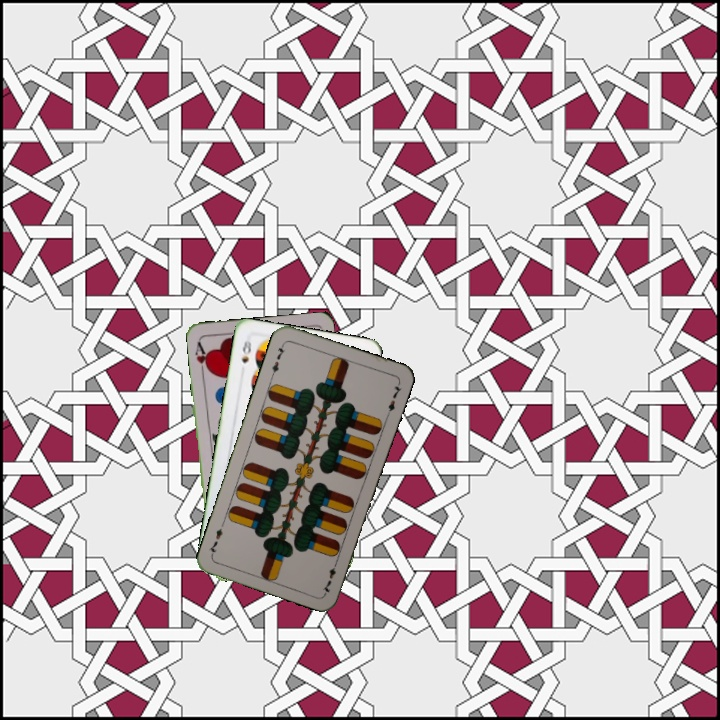E7: (318, 557, 340, 596), (267, 339, 288, 379)
HA: (191, 338, 212, 377)
S8: (237, 333, 254, 366)
